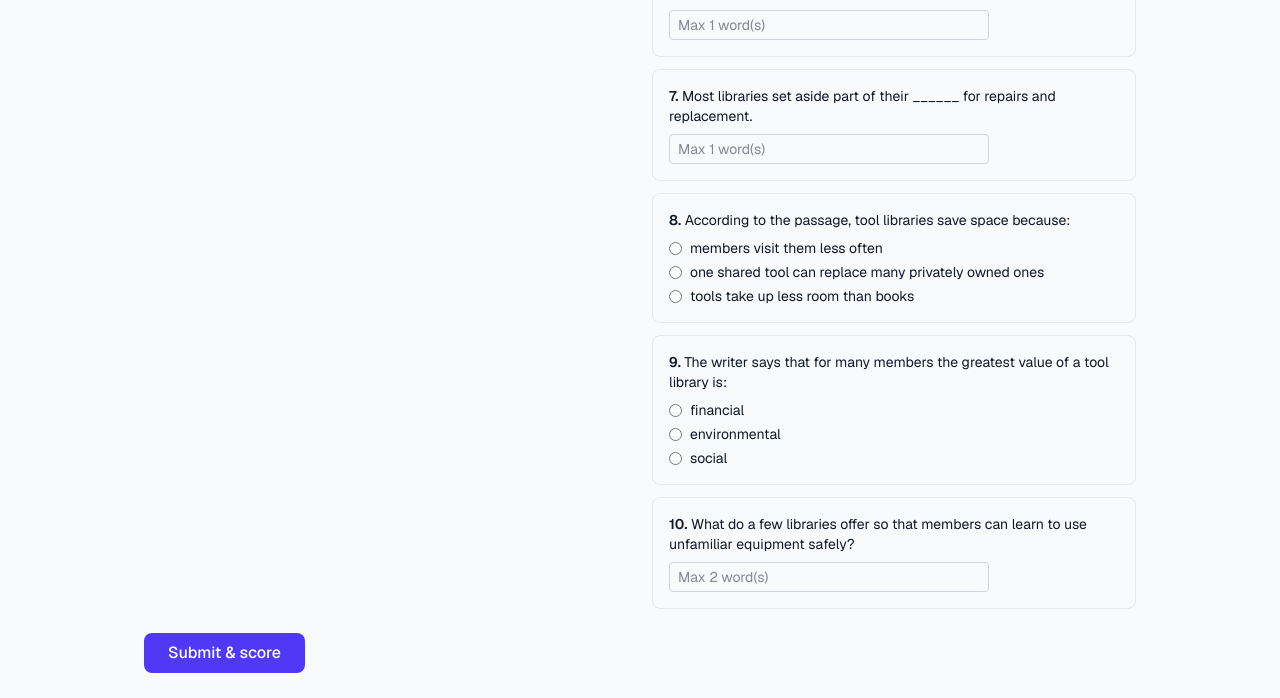
Test: attempt recording › records a reading attempt on submit
This screenshot has width=1280, height=698.
(page scrolled)
Click the button "Submit & score" at (224, 653), box [144,633,305,673]
(page scrolled)
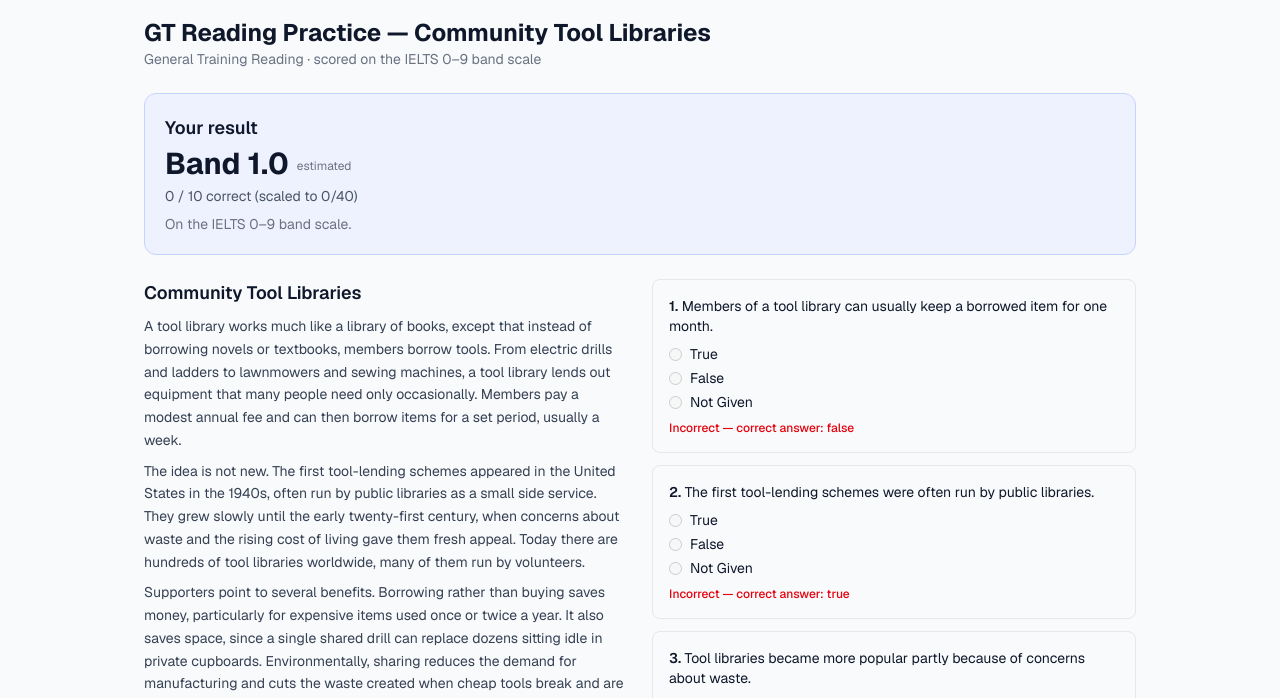
expect the heading "Your result" is shown: met, box [165,116,258,139]
